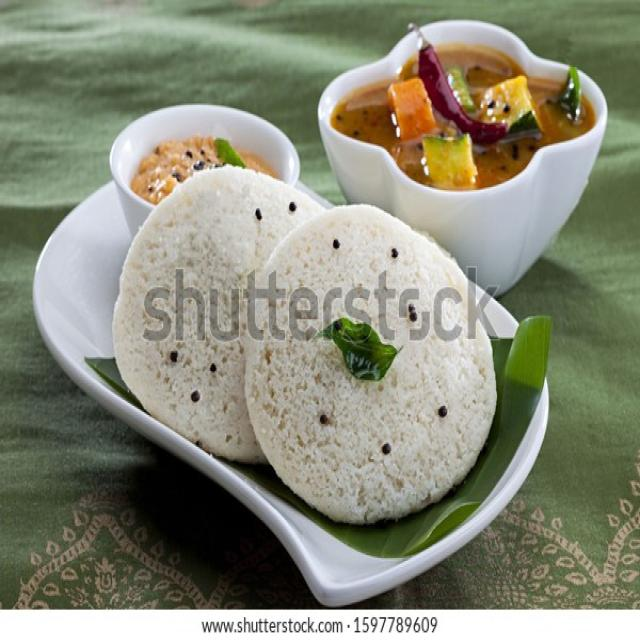IDLI: (245, 207, 496, 523), (113, 166, 320, 461)
